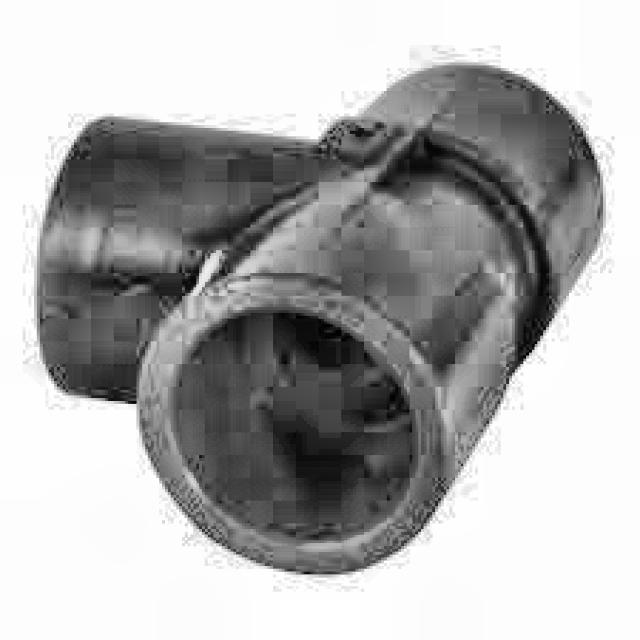EQUALTEE: (34, 63, 609, 580)
